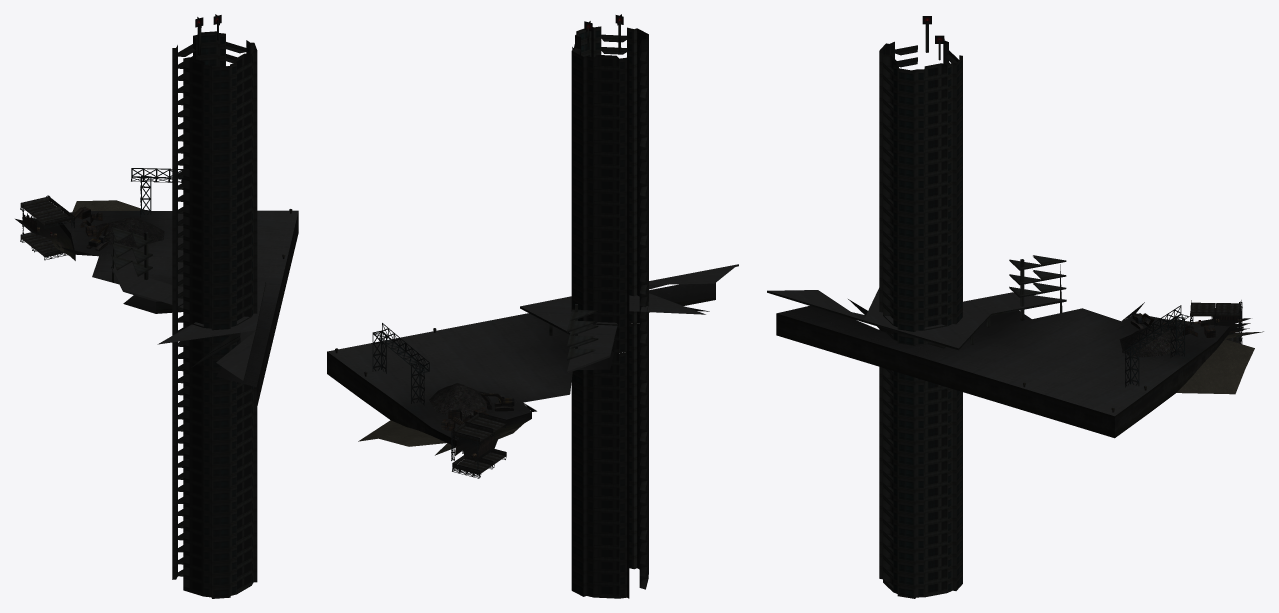
Rendered from cell_19_-3.gltf.
3 views of the same model, side by side, from view 1: azimuth 30°, elevation 25°; view 2: azimuth 150°, elevation 25°; view 3: azimuth 270°, elevation 25° (orthographic). The views are drawn at different scales.
Parts seen in each view (by area): view 1: cell_19_-3; view 2: cell_19_-3; view 3: cell_19_-3.
Part boxes in pixels (left/top/right/bottom): cell_19_-3: left=15, top=14, right=298, bottom=598; cell_19_-3: left=327, top=14, right=738, bottom=598; cell_19_-3: left=767, top=16, right=1263, bottom=598.
Size of the model in its own units: 112 by 233 by 188.
Materials: 22 (22 with a texture image).
